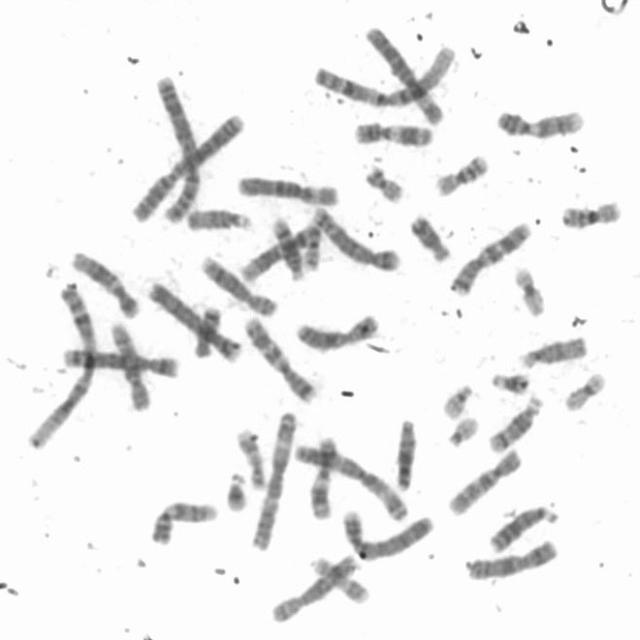A1: (20, 274, 101, 452), (309, 38, 457, 109)
A2: (125, 105, 248, 224), (151, 67, 205, 226)
A3: (289, 435, 411, 523), (246, 404, 299, 551)
B4: (143, 274, 245, 364), (338, 502, 437, 562)
B5: (306, 200, 404, 273), (56, 342, 184, 380)
C10: (443, 441, 527, 518), (105, 315, 154, 413)
C11: (306, 430, 339, 522), (350, 117, 435, 149)
C12: (236, 216, 322, 285), (65, 243, 142, 320)
C6: (362, 19, 449, 125), (233, 169, 342, 207)
C7: (445, 215, 534, 298), (240, 310, 318, 404)
C8: (265, 549, 359, 624), (198, 250, 281, 318)
C9: (146, 494, 220, 547), (492, 101, 588, 141)
D13: (484, 499, 560, 554), (390, 412, 420, 492)
D14: (483, 389, 544, 454), (266, 210, 306, 282)
D15: (515, 329, 590, 370), (181, 201, 256, 233)
E16: (430, 148, 490, 198), (556, 194, 624, 231)
E17: (306, 550, 372, 606), (232, 421, 268, 491)
E18: (404, 207, 454, 264), (189, 300, 224, 358)
F19: (509, 260, 549, 318), (559, 366, 609, 412)
F20: (360, 157, 406, 204), (298, 218, 323, 272)
G21: (221, 466, 250, 514), (486, 366, 532, 396)
G22: (437, 377, 476, 420), (443, 410, 481, 449)
X: (462, 533, 560, 582), (289, 308, 381, 353)
